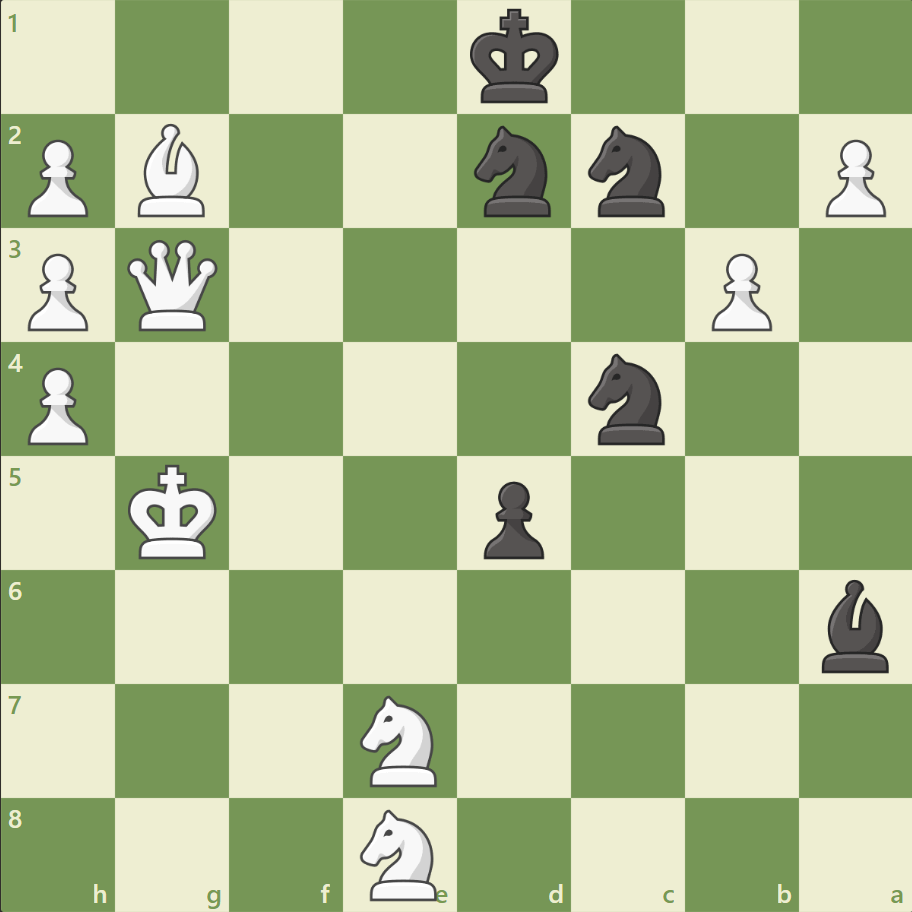B: (131, 120, 215, 222)
K: (124, 458, 224, 566)
N: (351, 688, 449, 791), (351, 802, 449, 904)
P: (20, 359, 95, 450), (701, 246, 776, 337), (20, 246, 95, 337), (20, 132, 95, 223), (815, 132, 889, 223)
Q: (124, 236, 223, 335)
b: (812, 574, 896, 676)
k: (465, 4, 565, 112)
n: (579, 348, 676, 450), (579, 121, 676, 223), (465, 121, 562, 223)
p: (474, 473, 549, 564)
